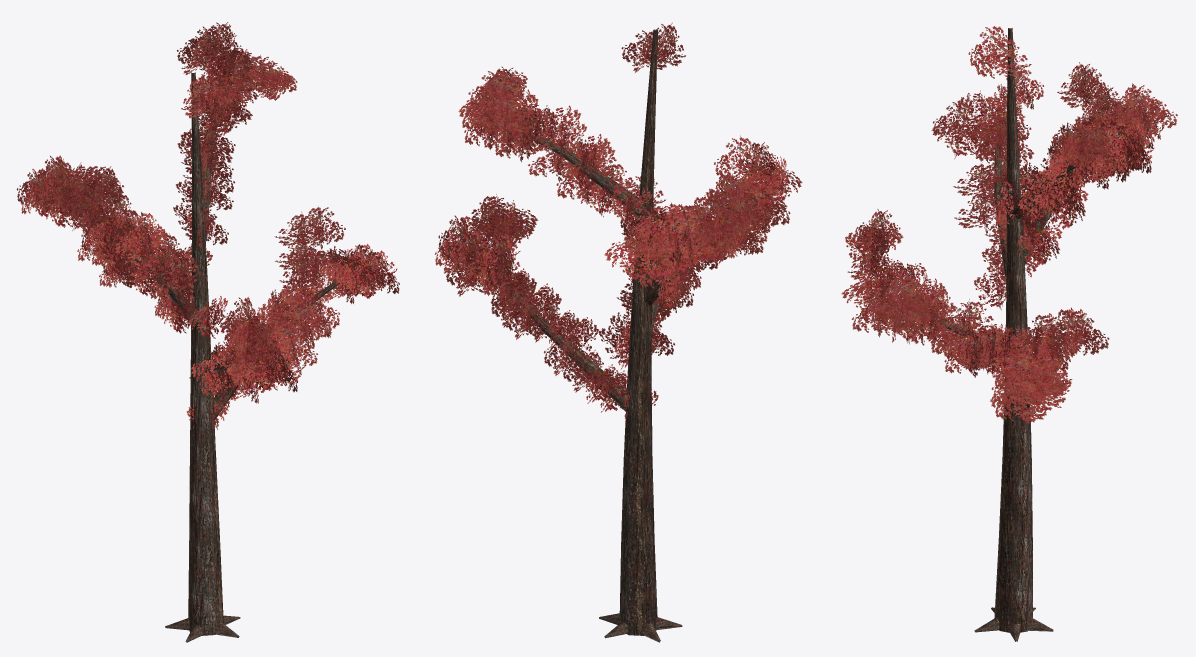
The model's file is tree_3d_06_red_lod1.glb.
3 views of the same model, side by side, from view 1: azimuth 30°, elevation 25°; view 2: azimuth 150°, elevation 25°; view 3: azimuth 270°, elevation 25° (orthographic). The views are drawn at different scales.
Visible parts, largest first — view 1: foliage_cards, wood_geometry; view 2: foliage_cards, wood_geometry; view 3: foliage_cards, wood_geometry.
Boxes of the visible parts, left/top/right/bottom form: foliage_cards: left=16, top=22, right=399, bottom=431; wood_geometry: left=77, top=72, right=344, bottom=642; foliage_cards: left=435, top=22, right=802, bottom=423; wood_geometry: left=471, top=30, right=769, bottom=642; foliage_cards: left=841, top=26, right=1177, bottom=423; wood_geometry: left=875, top=28, right=1125, bottom=641.
Bounding box in the file's own units: 5.11 × 8.05 × 4.24.
Materials: 2 (2 with a texture image).
